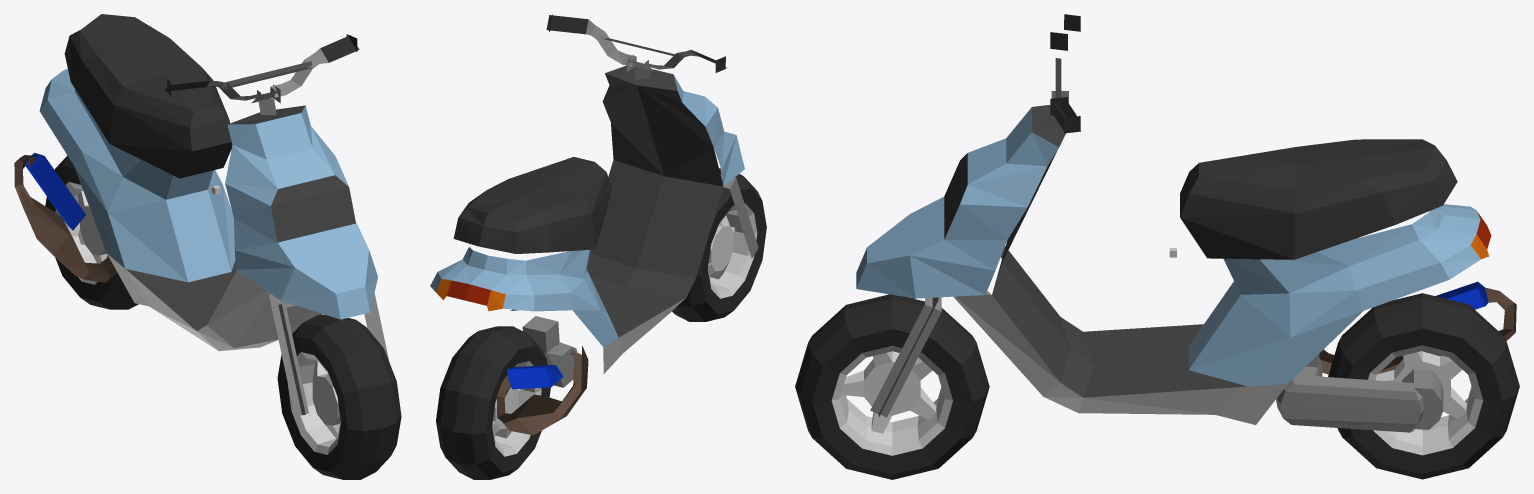
Rendered from scene_llQ1XacTNU.glb.
The picture shows the model from 3 angles, left to right: view 1: azimuth 30°, elevation 25°; view 2: azimuth 150°, elevation 25°; view 3: azimuth 270°, elevation 25°; orthographic projection. The views are drawn at different scales.
Parts seen in each view (by area): view 1: spirit-n; view 2: spirit-n; view 3: spirit-n.
Boxes of the visible parts, x1,y1,x2,y2 form: spirit-n: [14, 14, 401, 479]; spirit-n: [430, 14, 766, 479]; spirit-n: [795, 14, 1519, 479].
Bounding box in the file's own units: 68.79 × 123 × 197.
